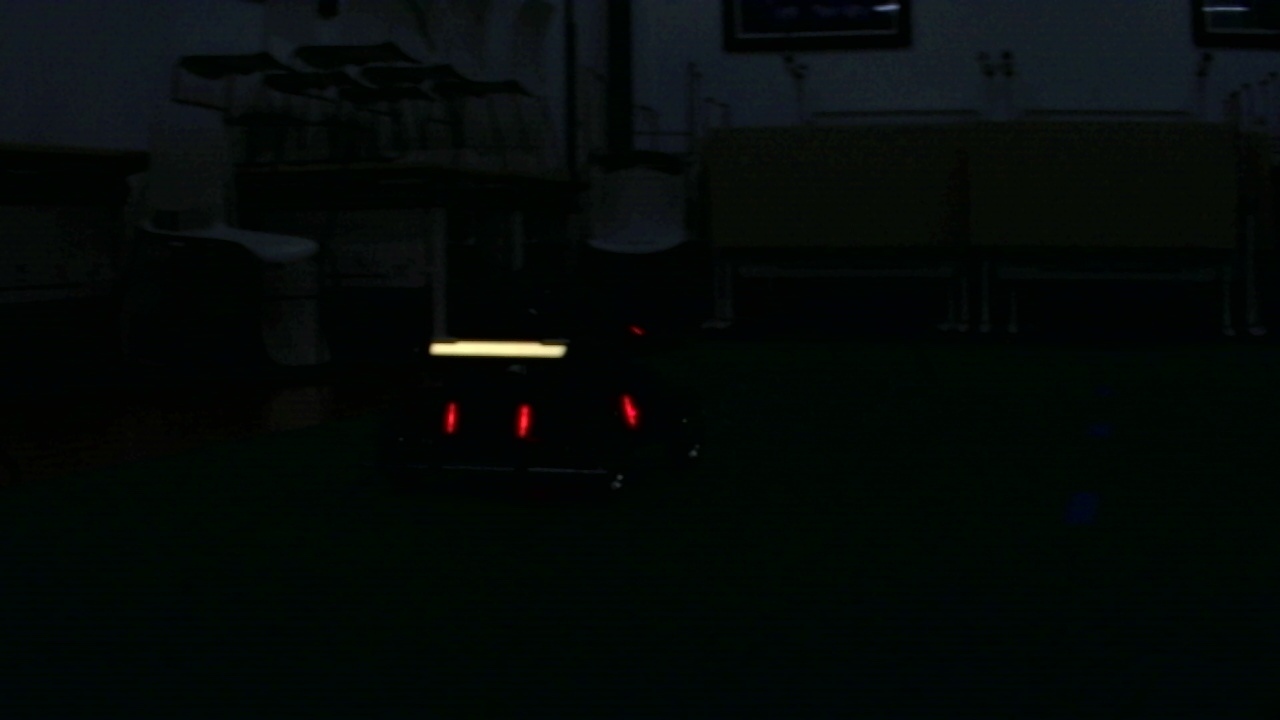lamp: (516, 398, 535, 437), (444, 402, 463, 429), (622, 396, 637, 421)
pair1: (449, 394, 532, 434)
